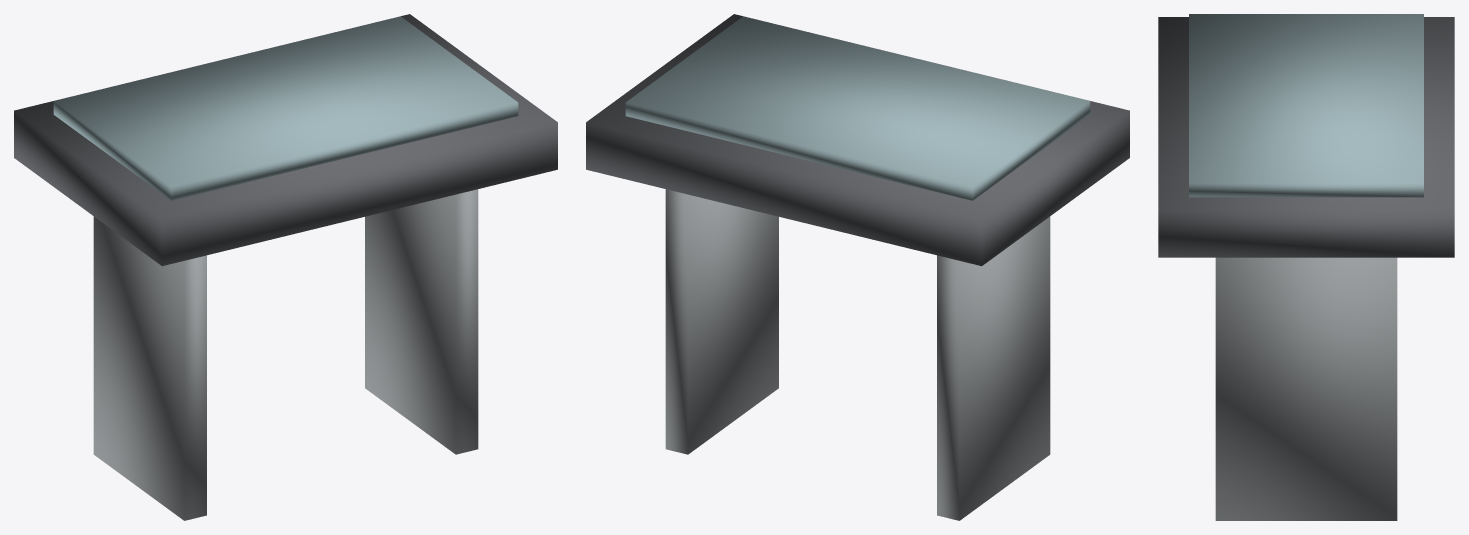
File: light_table.glb
3 renders of one model, left to right at view 1: azimuth 30°, elevation 25°; view 2: azimuth 150°, elevation 25°; view 3: azimuth 270°, elevation 25°, orthographic.
Parts seen in each view (by area): view 1: world; view 2: world; view 3: world.
Part boxes in pixels (left/top/right/bottom): world: left=14, top=14, right=557, bottom=520; world: left=586, top=14, right=1129, bottom=520; world: left=1158, top=14, right=1454, bottom=520.
Bounding box in the file's own units: 1.05 × 0.8875 × 0.68.
